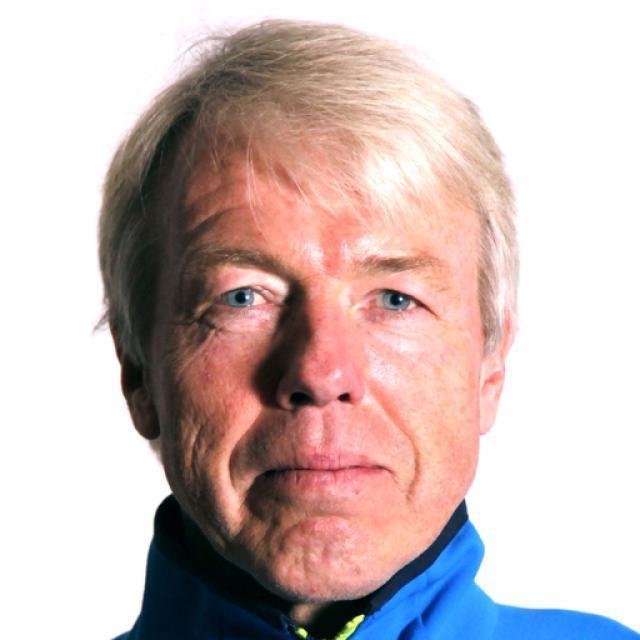0_rostro_limpio: (110, 25, 510, 601)
